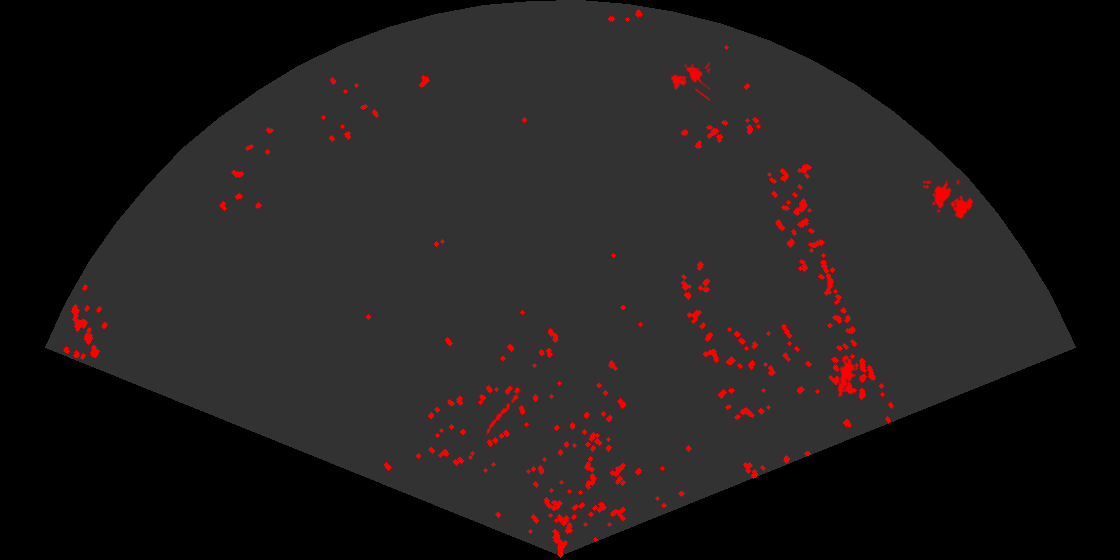cage: (923, 180, 975, 220), (669, 60, 710, 102)
chain: (483, 389, 521, 436)
frogman: (836, 359, 858, 398)
